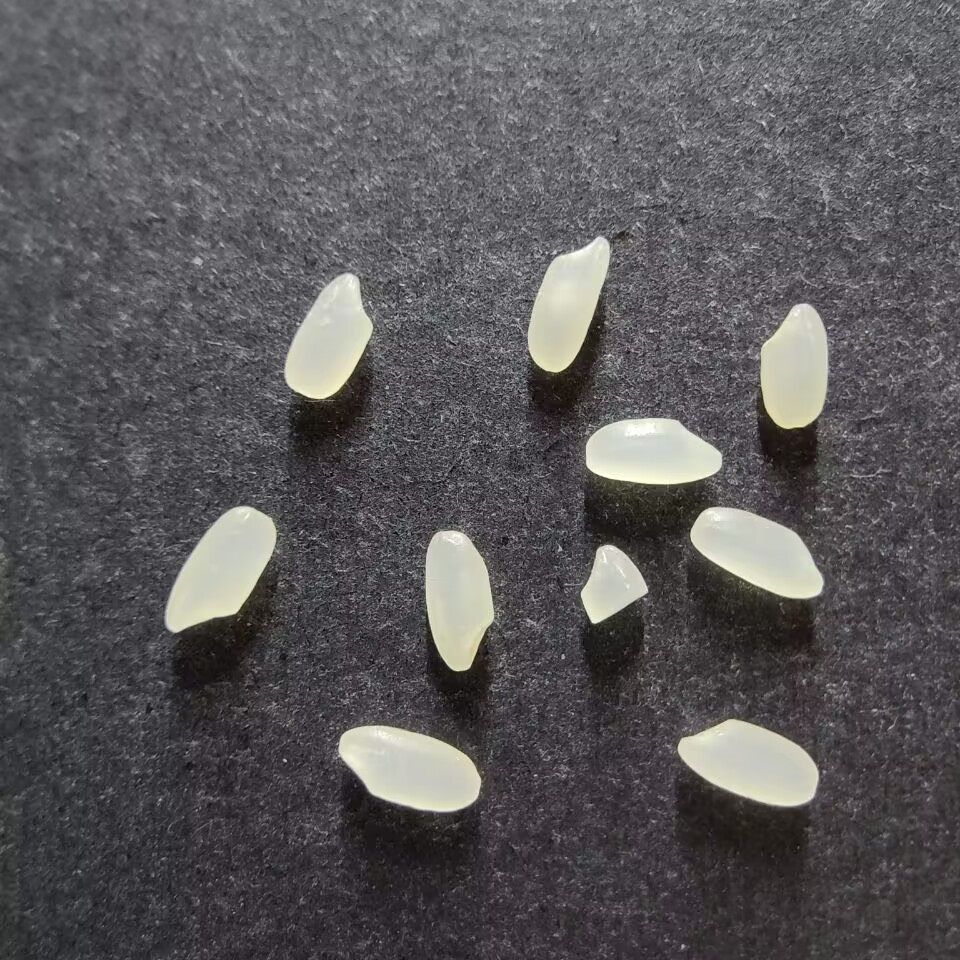broken: (579, 544, 648, 624)
rice: (164, 505, 276, 633), (337, 725, 481, 812), (689, 506, 823, 599), (677, 719, 818, 806), (526, 235, 610, 373), (284, 273, 373, 400), (423, 529, 495, 672), (584, 417, 723, 485), (759, 302, 829, 429)
